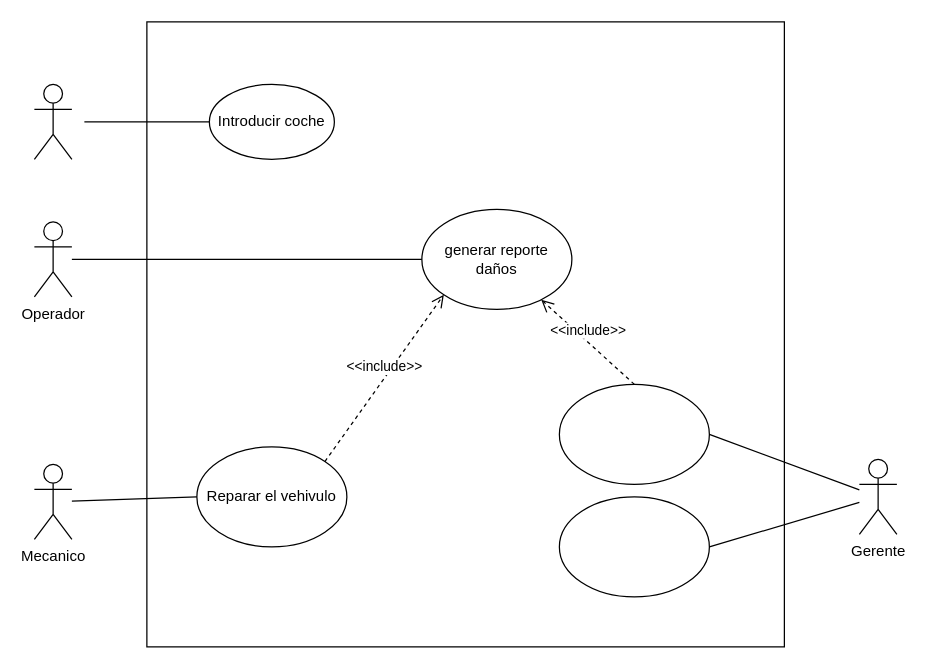
This 926x669 diagram has some shape labels left out. The shapes that lost their labels are listed below. From the top down, each one's box as (x1, y1, x2, y2) in pixels, then its label:
(33, 83, 72, 159): Usuario
(558, 383, 709, 484): Cobrar usuario
(558, 496, 709, 597): Actualizar costos
